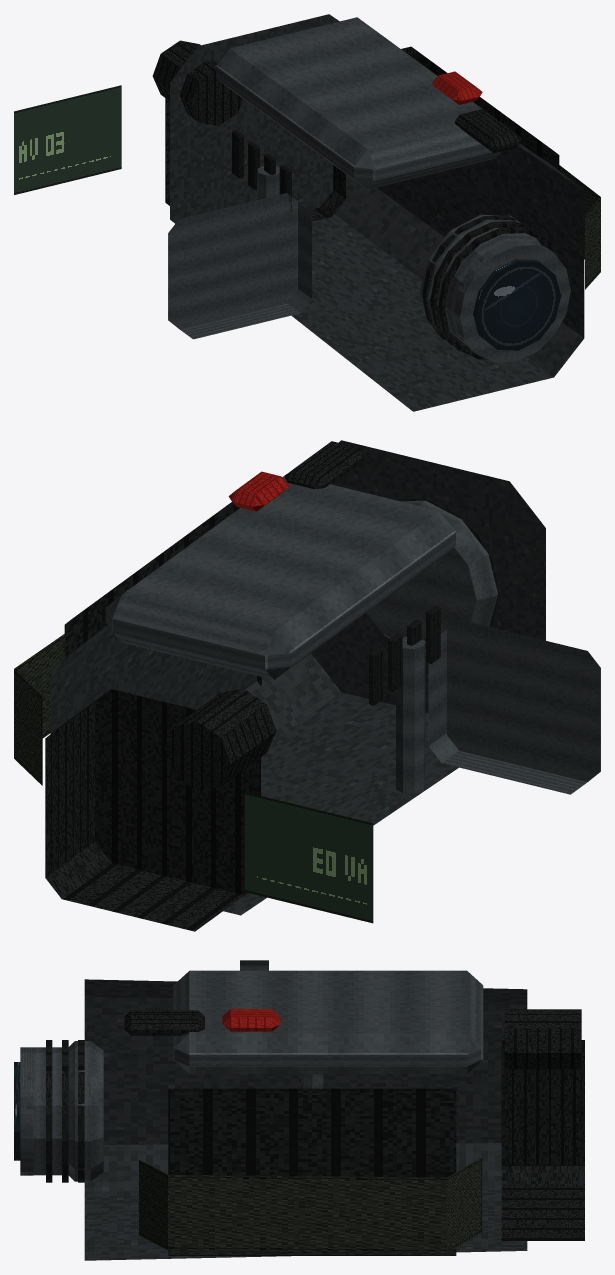
File: blender_video_camera_2.glb
3 renders of one model, top to bottom at view 1: azimuth 30°, elevation 25°; view 2: azimuth 150°, elevation 25°; view 3: azimuth 270°, elevation 25°, orthographic. The views are drawn at different scales.
Visible parts, largest first — view 1: blender_video_camera_2; view 2: blender_video_camera_2; view 3: blender_video_camera_2.
Boxes of the visible parts, bbox=[...] form: blender_video_camera_2: bbox=[14, 14, 600, 411]; blender_video_camera_2: bbox=[14, 440, 600, 931]; blender_video_camera_2: bbox=[14, 960, 584, 1260].
Bounding box in the file's own units: 0.1407 × 0.0828 × 0.183.
7 materials, 7 textured.
